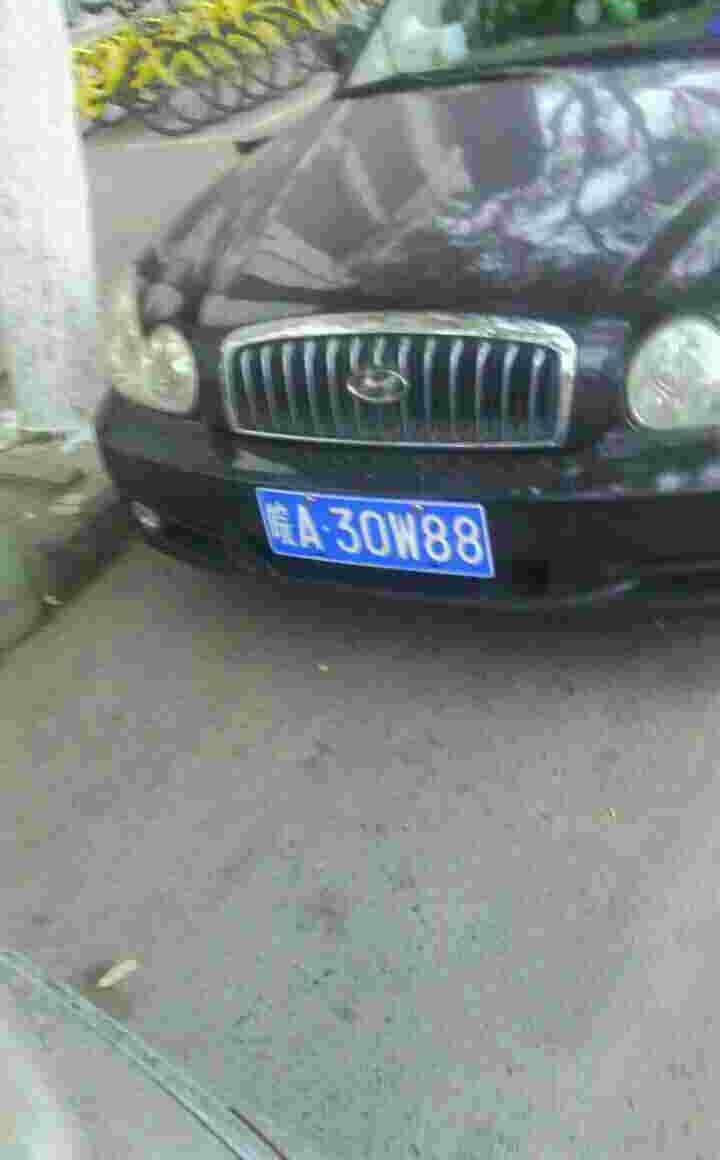license_plate: (264, 488, 488, 587)
